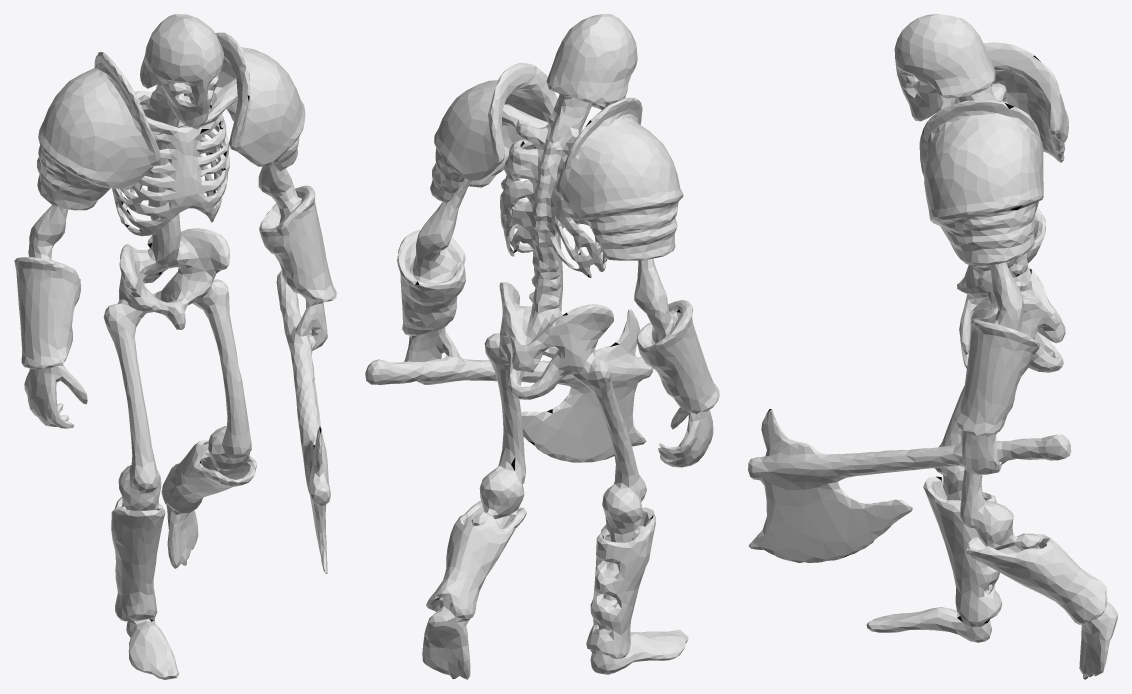
Rendered from enemy_skel_heavy.glb.
3 renders of one model, left to right at view 1: azimuth 30°, elevation 25°; view 2: azimuth 150°, elevation 25°; view 3: azimuth 270°, elevation 25°, orthographic.
Visible parts, largest first — view 1: Low; view 2: Low; view 3: Low.
Boxes of the visible parts, <box> form: Low: <box>14,14,336,679</box>; Low: <box>365,14,719,679</box>; Low: <box>748,14,1117,679</box>.
Bounding box in the file's own units: 1.02 × 1.98 × 1.04.
Materials: 1 (1 with a texture image).
